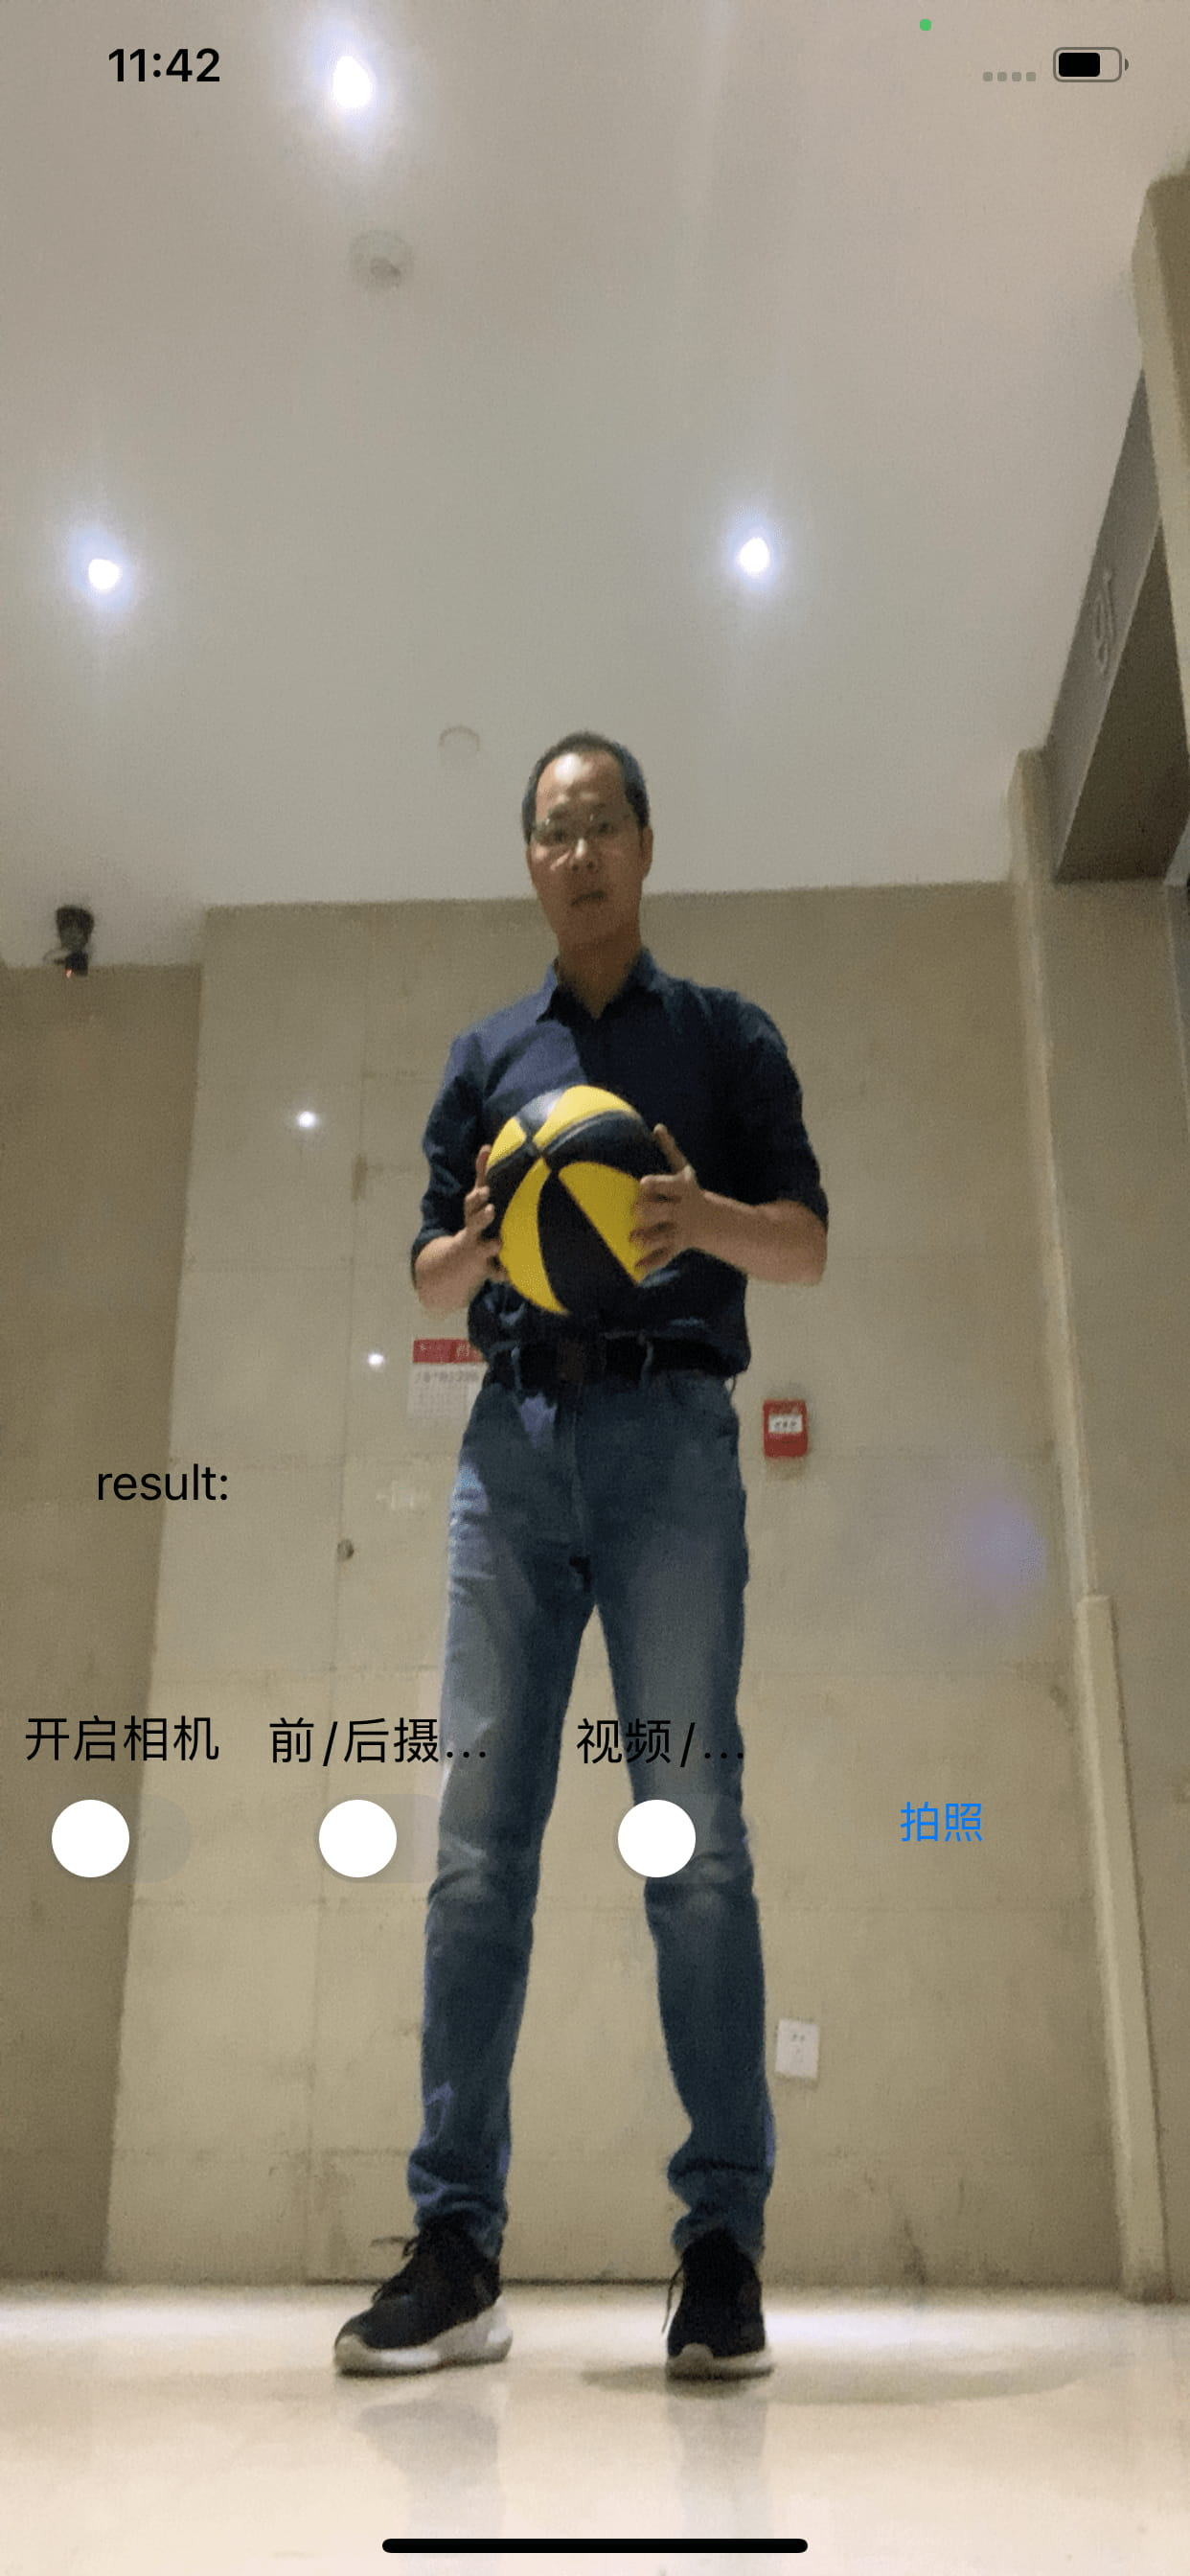ball: (490, 1083, 682, 1318)
